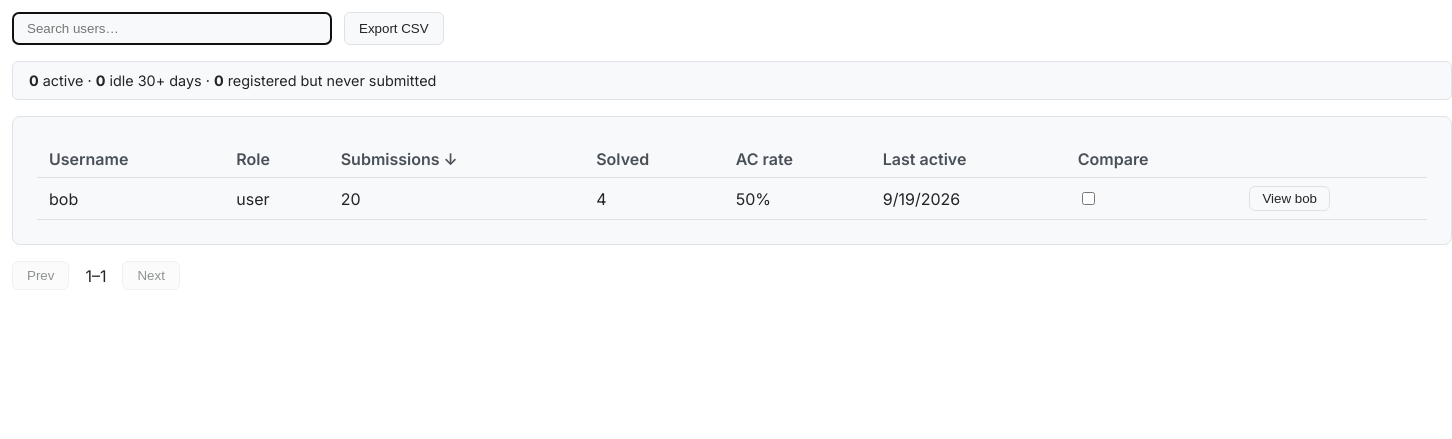
UsersTab › keeps the focused search input mounted during loading and error states
The image size is (1452, 439).
Expected: the text "bob" is shown, [37,178,224,220]
Type "missing" into the field labelled "Search users…" at (172, 28), box [12,12,332,45]
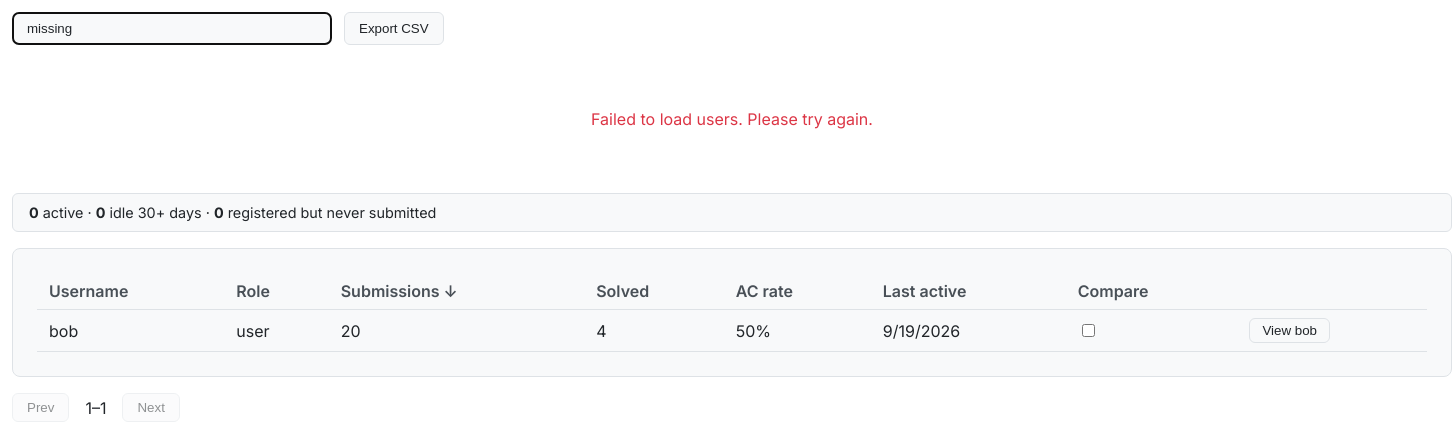
Result: the message shows "Failed to load users" at [591,109,873,129]
